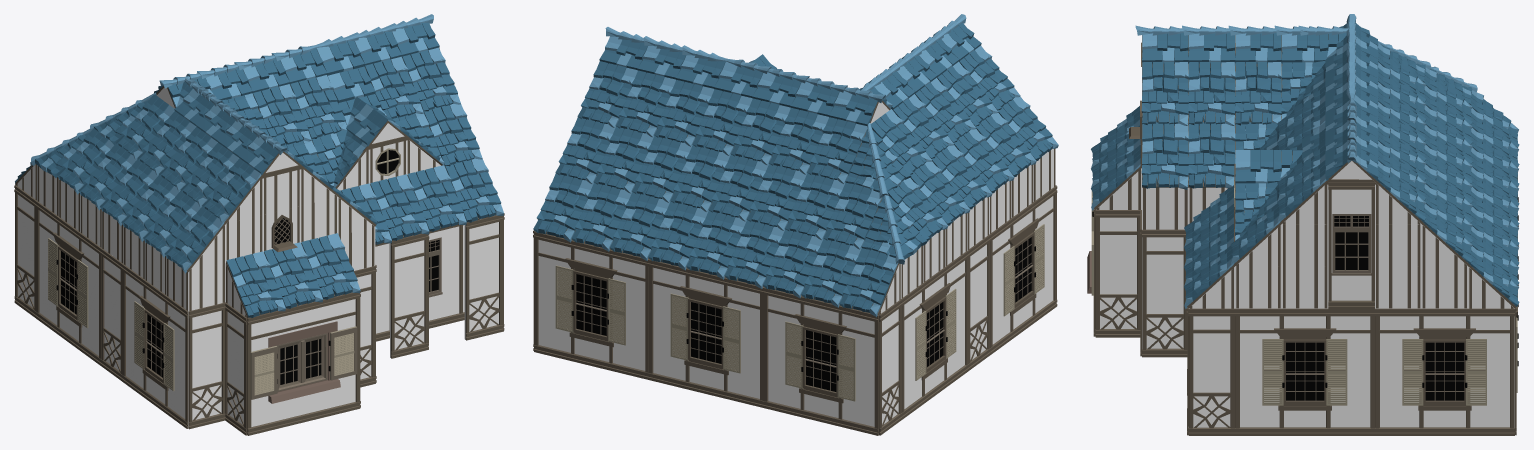
Rendered from house_20_full.glb.
3 views of the same model, side by side, from view 1: azimuth 30°, elevation 25°; view 2: azimuth 150°, elevation 25°; view 3: azimuth 270°, elevation 25° (orthographic). The views are drawn at different scales.
Parts seen in each view (by area): view 1: WINDOW_06_2, WINDOW_07_3, WINDOW_07_4, WINDOW_03_2, WALL_04_8, WALL_04_7, WALL_04_10, WALL_04_11, WALL_04_12, WALL_04_13, ROOF_base_29, ROOF_base_36 (+63 smaller); view 2: WINDOW_07_5, WINDOW_07_6, WINDOW_07_7, WINDOW_07_4, WINDOW_07_3, WALL_04_13, WALL_04_12, ROOF_base_76, ROOF_base_44, ROOF_base_67, ROOF_base_49, ROOF_base_64 (+50 smaller); view 3: WINDOW_07_8, WINDOW_07_9, WALL_04_9, WINDOW_04_4, WALL_04_3, WALL_04_5, ROOF_base_32, ROOF_base_30, ROOF_base_33, ROOF_base_31, ROOF_base_34, ROOF_up_quad_25 (+78 smaller).
Boxes of the visible parts, box(x1,y1,x2,y2) form: WINDOW_06_2: box(247, 292, 360, 435); WINDOW_07_3: box(122, 264, 188, 428); WINDOW_07_4: box(36, 201, 101, 365); WINDOW_03_2: box(375, 224, 464, 341); WALL_04_8: box(464, 215, 503, 340); WALL_04_7: box(390, 233, 429, 358); WALL_04_10: box(188, 302, 225, 429); WALL_04_11: box(224, 302, 247, 435); WALL_04_12: box(100, 248, 123, 381); WALL_04_13: box(14, 185, 36, 317); ROOF_base_29: box(226, 251, 285, 317); ROOF_base_36: box(370, 174, 429, 240); WINDOW_07_5: box(763, 287, 878, 435); WINDOW_07_6: box(648, 259, 763, 407); WINDOW_07_7: box(534, 231, 648, 379); WINDOW_07_4: box(901, 250, 968, 418); WINDOW_07_3: box(989, 186, 1057, 354); WALL_04_13: box(879, 299, 902, 435); WALL_04_12: box(968, 234, 990, 370); ROOF_base_76: box(839, 248, 898, 317); ROOF_base_44: box(533, 173, 593, 242); ROOF_base_67: box(801, 238, 861, 307); ROOF_base_49: box(571, 182, 631, 251); ROOF_base_64: box(763, 229, 823, 298); WINDOW_07_8: box(1375, 308, 1514, 435); WINDOW_07_9: box(1235, 308, 1374, 435); WALL_04_9: box(1188, 308, 1235, 435); WINDOW_04_4: box(1328, 182, 1374, 309); WALL_04_3: box(1095, 210, 1141, 337); WALL_04_5: box(1142, 229, 1187, 357); ROOF_base_32: box(1188, 122, 1235, 188); ROOF_base_30: box(1141, 122, 1188, 189); ROOF_base_33: box(1188, 61, 1235, 125); ROOF_base_31: box(1141, 61, 1188, 125); ROOF_base_34: box(1235, 62, 1281, 125); ROOF_up_quad_25: box(1421, 266, 1468, 308).
Size of the model in its own units: 9.28 by 6.65 by 9.28.
Materials: 1 (1 with a texture image).
